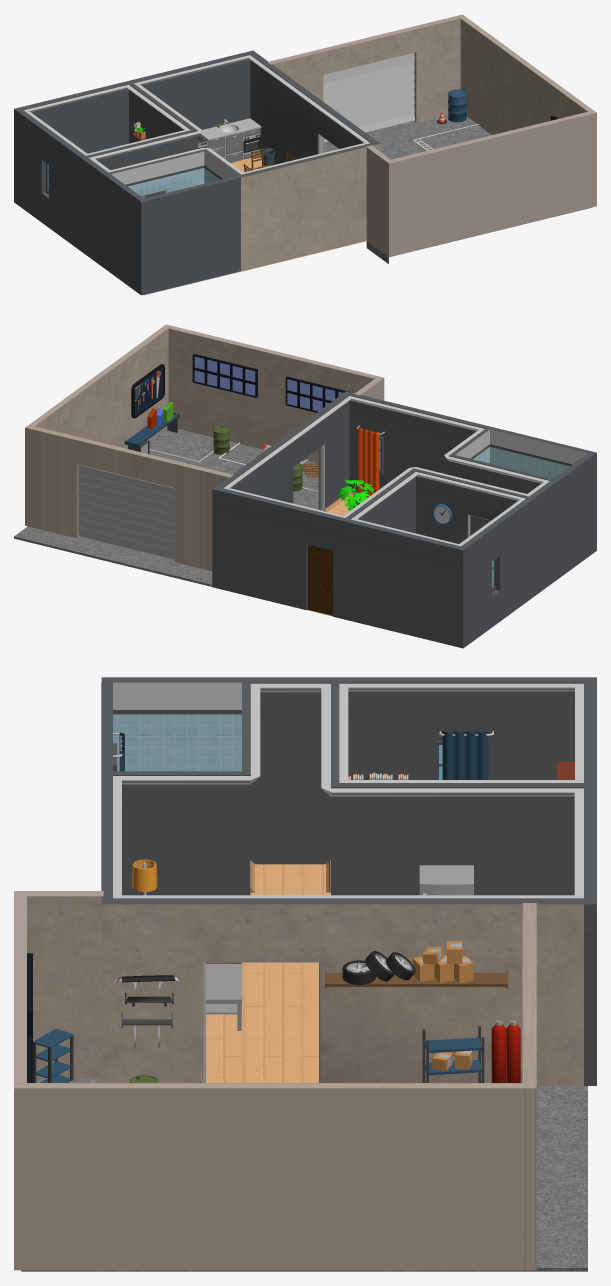
Rendered from Home.fbx.
3 views of the same model, one above another, from view 1: azimuth 30°, elevation 25°; view 2: azimuth 150°, elevation 25°; view 3: azimuth 270°, elevation 25° (orthographic). The views are drawn at different scales.
Parts seen in each view (by area): view 1: Plane, Plane.001, Cube.005, Plane.002, Kitchen_2Drawers.001, Kitchen_Oven.001, barrel.001, Kitchen_3Drawers.001; view 2: Plane, Plane.002, Plane.001, Cube.005, Cube.029, Cube.028, Curtains_Single.002, Cube.030, Cube.027, Houseplant_7, barrel.005; view 3: Plane, Plane.002, Cube.005, thing.003, thing.013, Curtains_Single.001, Cube.013, Refrigirator.001, thing.011, thing.016, thing.004, Light_Stand2.
Part boxes in pixels (bbox=[...]): Plane: bbox=[14, 14, 596, 295]; Plane.001: bbox=[323, 53, 414, 142]; Cube.005: bbox=[24, 55, 370, 174]; Plane.002: bbox=[144, 115, 591, 295]; Kitchen_2Drawers.001: bbox=[215, 119, 244, 162]; Kitchen_Oven.001: bbox=[233, 118, 261, 159]; barrel.001: bbox=[448, 89, 466, 122]; Kitchen_3Drawers.001: bbox=[200, 127, 226, 158]; Plane: bbox=[25, 324, 596, 648]; Plane.002: bbox=[14, 428, 353, 616]; Plane.001: bbox=[78, 464, 174, 559]; Cube.005: bbox=[223, 396, 549, 546]; Cube.029: bbox=[192, 354, 257, 397]; Cube.028: bbox=[285, 376, 350, 412]; Curtains_Single.002: bbox=[356, 425, 384, 497]; Cube.030: bbox=[124, 401, 179, 454]; Cube.027: bbox=[131, 364, 164, 418]; Houseplant_7: bbox=[336, 479, 374, 510]; barrel.005: bbox=[213, 426, 229, 454]; Plane: bbox=[14, 677, 596, 1270]; Plane.002: bbox=[21, 864, 587, 1271]; Cube.005: bbox=[113, 683, 583, 898]; thing.003: bbox=[325, 941, 507, 988]; thing.013: bbox=[422, 1026, 484, 1082]; Curtains_Single.001: bbox=[439, 731, 493, 779]; Cube.013: bbox=[206, 963, 241, 1030]; Refrigirator.001: bbox=[419, 865, 473, 895]; thing.011: bbox=[33, 1028, 73, 1082]; thing.016: bbox=[491, 1020, 505, 1082]; thing.004: bbox=[506, 1020, 520, 1082]; Light_Stand2: bbox=[132, 859, 157, 895].
Size of the model in its own units: 420 by 95.1 by 252.
